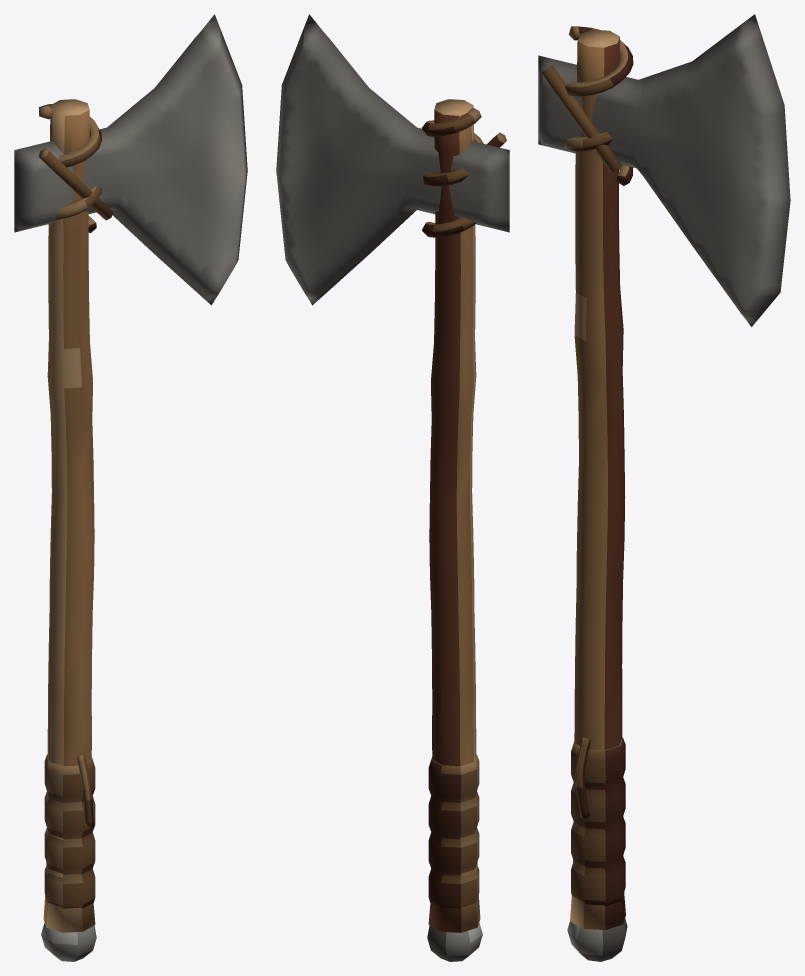
Rendered from tl_axe_stone.glb.
3 renders of one model, left to right at view 1: azimuth 30°, elevation 25°; view 2: azimuth 150°, elevation 25°; view 3: azimuth 330°, elevation 25°, orthographic. The views are drawn at different scales.
Parts seen in each view (by area): view 1: Weapon; view 2: Weapon; view 3: Weapon.
Part boxes in pixels (x1,y1,x2,y2): Weapon: (14,14,247,961); Weapon: (276,14,509,961); Weapon: (538,14,790,961).
Size of the model in its own units: 0.252 by 0.939 by 0.0666.
